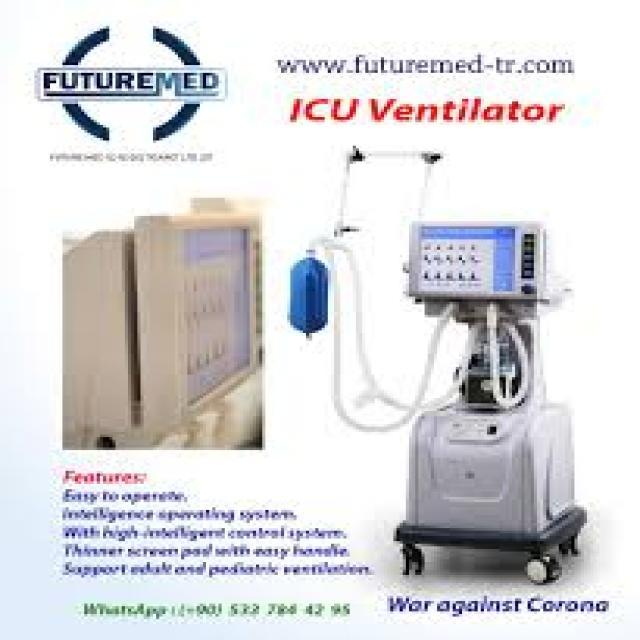ventilator: (307, 137, 591, 576)
